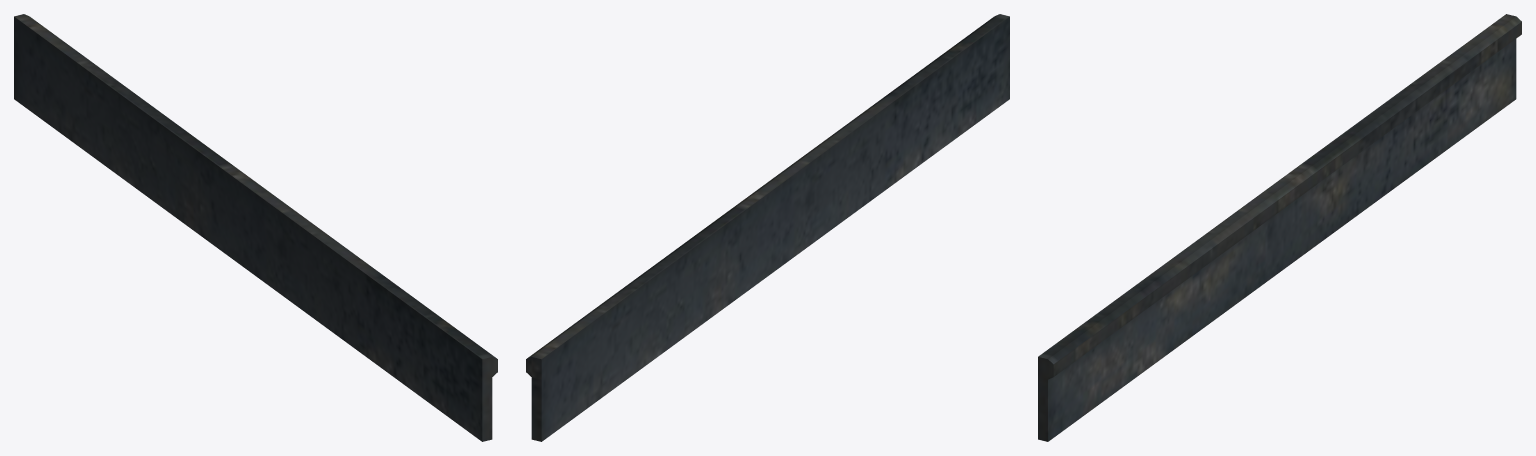
The model's file is Roof_SideWall_01.FBX.
The picture shows the model from 3 angles, left to right: view 1: azimuth 30°, elevation 25°; view 2: azimuth 150°, elevation 25°; view 3: azimuth 330°, elevation 25°; orthographic projection.
Visible parts, largest first — view 1: Roof_SideWall_01; view 2: Roof_SideWall_01; view 3: Roof_SideWall_01.
Boxes of the visible parts, box(x1,y1,x2,y2) form: Roof_SideWall_01: box(14, 14, 497, 441); Roof_SideWall_01: box(526, 14, 1009, 441); Roof_SideWall_01: box(1038, 14, 1521, 441).
Size of the model in its own units: 22.71 by 115 by 1177.
